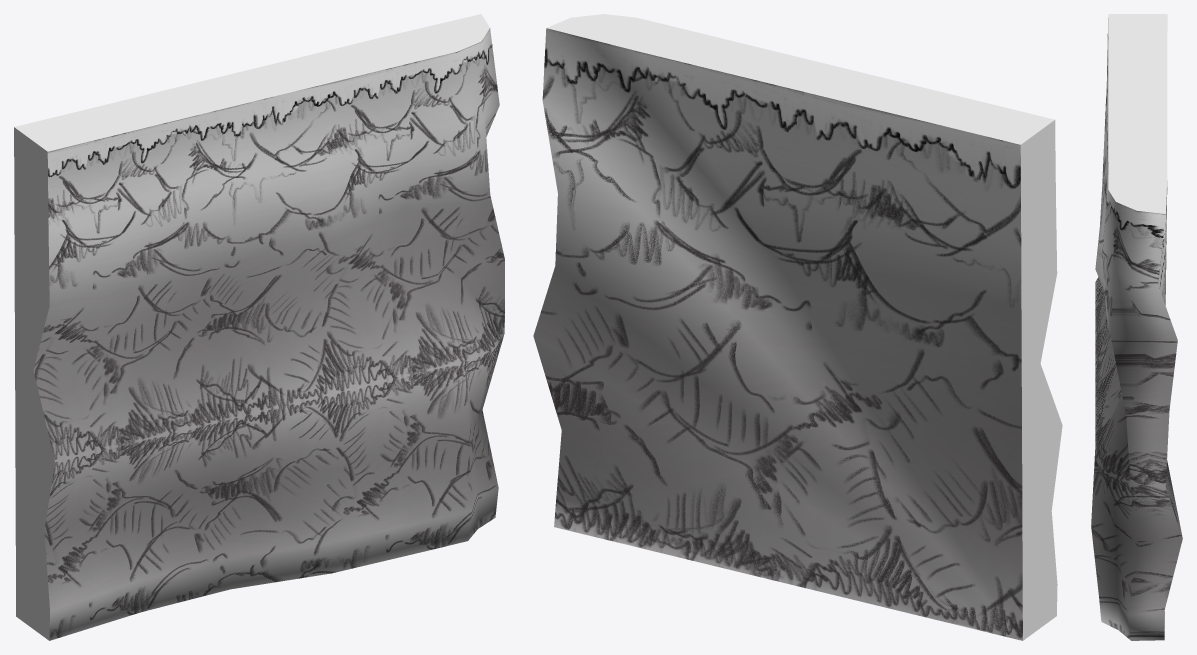
File: 16x2x16_CornerR.fbx
3 views of the same model, side by side, from view 1: azimuth 30°, elevation 25°; view 2: azimuth 150°, elevation 25°; view 3: azimuth 270°, elevation 25° (orthographic). The views are drawn at different scales.
Visible parts, largest first — view 1: 16x2x16_CornerR; view 2: 16x2x16_CornerR; view 3: 16x2x16_CornerR.
Part boxes in pixels (x1,y1,x2,y2): 16x2x16_CornerR: (14, 14, 504, 640); 16x2x16_CornerR: (533, 14, 1062, 640); 16x2x16_CornerR: (1091, 14, 1182, 640).
Bounding box in the file's own units: 1643 × 1600 × 310.
